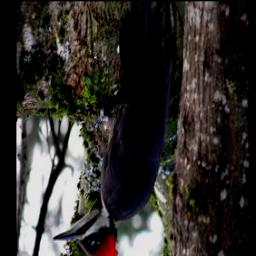Woodpecker: (51, 9, 179, 256)
